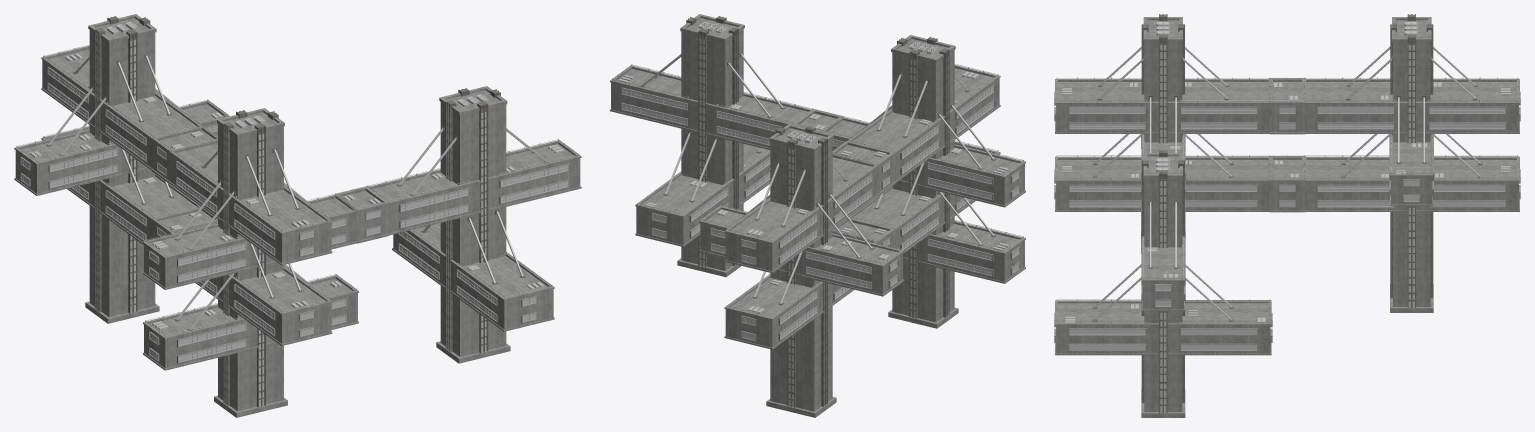
The model's file is Kitbash3D_Brutalist_Structure_Large02.fbx.
3 views of the same model, side by side, from view 1: azimuth 30°, elevation 25°; view 2: azimuth 150°, elevation 25°; view 3: azimuth 270°, elevation 25° (orthographic). The views are drawn at different scales.
Parts seen in each view (by area): view 1: L_Bldg_C_Main_Bldg, L_Bldg_C_WindowsGlass, L_Bldg_C_Side_Window_Shell, L_Bldg_C_Mullions_Slat, L_Bldg_C_Beams, L_Bldg_C_Rails_All_Grp, L_Bldg_C_Roof_Objects; view 2: L_Bldg_C_Main_Bldg, L_Bldg_C_WindowsGlass, L_Bldg_C_Side_Window_Shell, L_Bldg_C_Mullions_Slat, L_Bldg_C_Beams, L_Bldg_C_Rails_All_Grp, L_Bldg_C_Roof_Objects, L_Bldg_C_Beam_Connectors; view 3: L_Bldg_C_Main_Bldg, L_Bldg_C_WindowsGlass, L_Bldg_C_Mullions_Slat, L_Bldg_C_Side_Window_Shell, L_Bldg_C_Beams, L_Bldg_C_Rails_All_Grp, L_Bldg_C_Roof_Objects.
Boxes of the visible parts, x1,y1,x2,y2 form: L_Bldg_C_Main_Bldg: [14, 14, 581, 417]; L_Bldg_C_WindowsGlass: [21, 38, 568, 406]; L_Bldg_C_Side_Window_Shell: [94, 16, 500, 407]; L_Bldg_C_Mullions_Slat: [21, 22, 568, 362]; L_Bldg_C_Beams: [48, 55, 547, 329]; L_Bldg_C_Rails_All_Grp: [16, 45, 579, 337]; L_Bldg_C_Roof_Objects: [30, 22, 564, 330]; L_Bldg_C_Main_Bldg: [610, 14, 1025, 417]; L_Bldg_C_WindowsGlass: [622, 36, 1019, 407]; L_Bldg_C_Side_Window_Shell: [686, 16, 949, 407]; L_Bldg_C_Mullions_Slat: [621, 22, 1019, 340]; L_Bldg_C_Beams: [642, 53, 994, 303]; L_Bldg_C_Rails_All_Grp: [612, 64, 1023, 318]; L_Bldg_C_Roof_Objects: [618, 21, 1008, 313]; L_Bldg_C_Beam_Connectors: [639, 52, 996, 305]; L_Bldg_C_Main_Bldg: [1054, 17, 1520, 417]; L_Bldg_C_WindowsGlass: [1070, 45, 1504, 412]; L_Bldg_C_Mullions_Slat: [1069, 22, 1505, 350]; L_Bldg_C_Side_Window_Shell: [1141, 14, 1433, 413]; L_Bldg_C_Beams: [1094, 46, 1481, 320]; L_Bldg_C_Rails_All_Grp: [1056, 77, 1518, 323]; L_Bldg_C_Roof_Objects: [1062, 22, 1510, 322].
Size of the model in its own units: 73.52 by 47.78 by 73.52.
